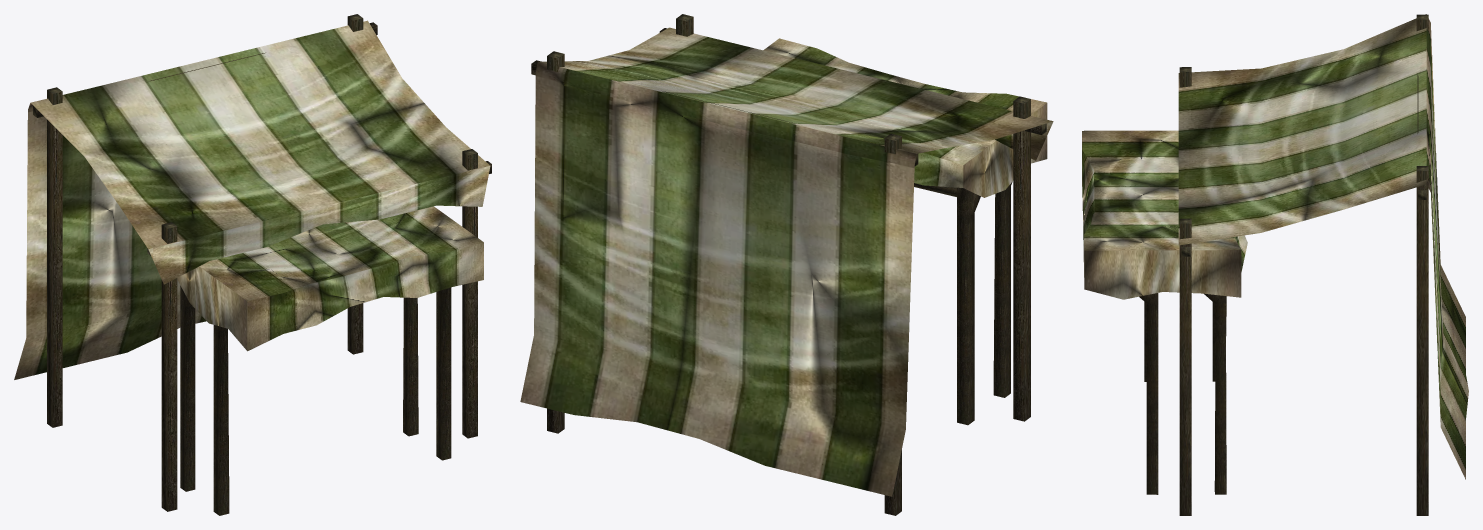
Rendered from GS_MARKET_GREEN_01.glb.
3 renders of one model, left to right at view 1: azimuth 30°, elevation 25°; view 2: azimuth 150°, elevation 25°; view 3: azimuth 270°, elevation 25°, orthographic. The views are drawn at different scales.
Visible parts, largest first — view 1: Mesh; view 2: Mesh; view 3: Mesh.
Part boxes in pixels (x1,y1,x2,y2): Mesh: (14,14,491,515); Mesh: (520,14,1053,515); Mesh: (1082,14,1468,515).
Bounding box in the file's own units: 4.66 × 4.31 × 4.38.
3 materials, 3 textured.
